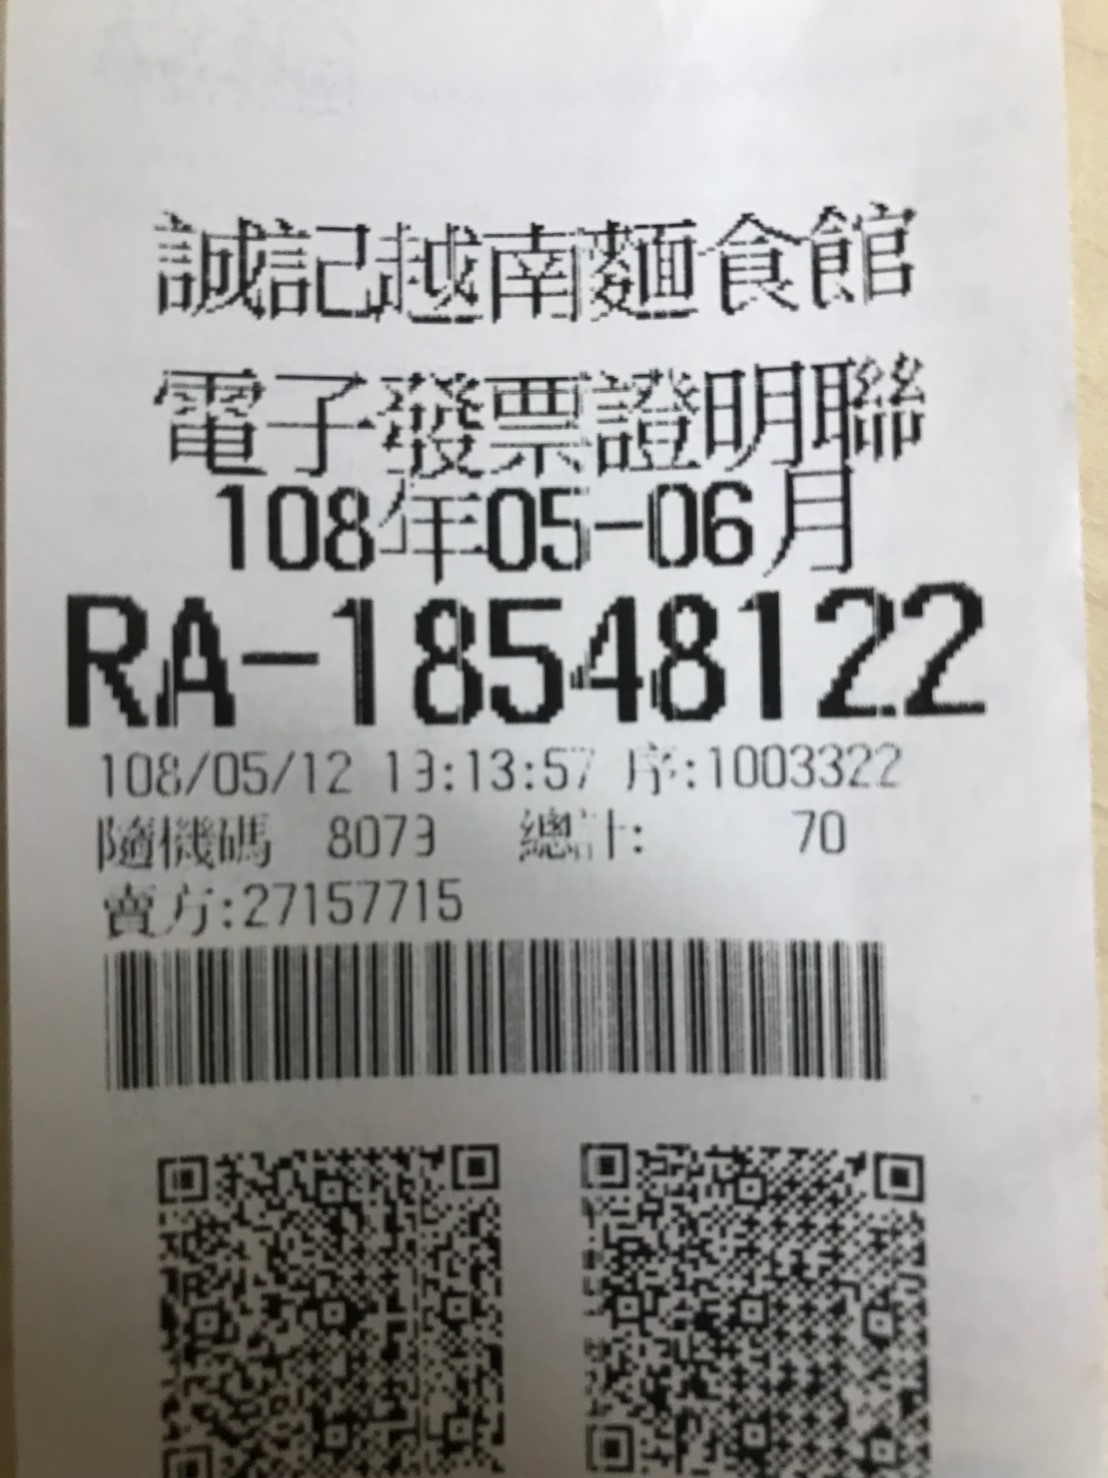Date_New: (214, 463, 859, 580)
Number_New: (335, 574, 992, 736)
